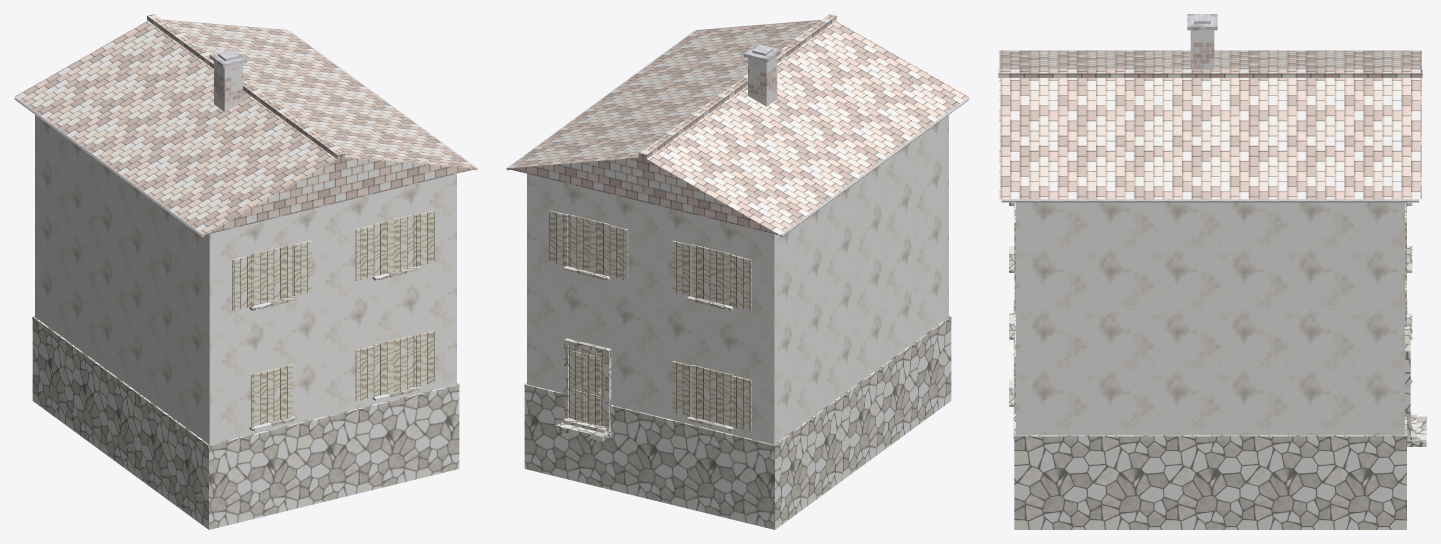
3 views of the same model, side by side, from view 1: azimuth 30°, elevation 25°; view 2: azimuth 150°, elevation 25°; view 3: azimuth 270°, elevation 25° (orthographic). The views are drawn at different scales.
Parts seen in each view (by area): view 1: b1088806815; view 2: b1088806815; view 3: b1088806815.
Boxes of the visible parts, x1,y1,x2,y2 form: b1088806815: [14, 14, 477, 529]; b1088806815: [506, 14, 969, 529]; b1088806815: [998, 14, 1426, 529].
Bounding box in the file's own units: 7.44 × 9.99 × 8.96.
Materials: 19 (19 with a texture image).
